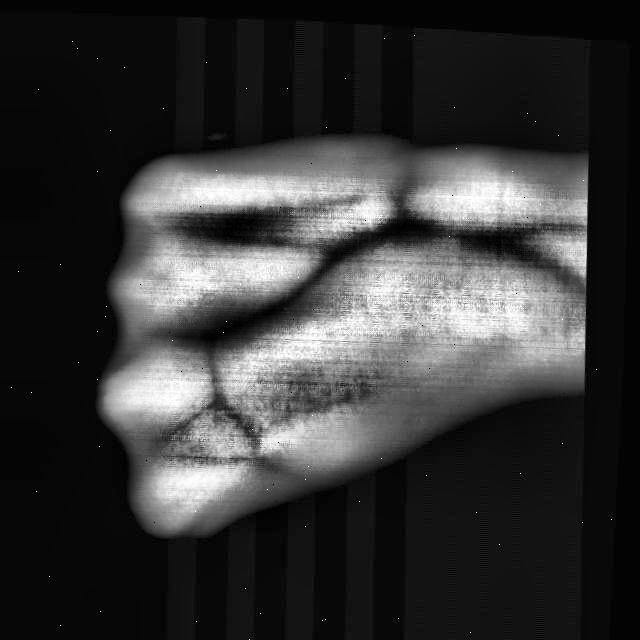Vein: (221, 229, 372, 340)
